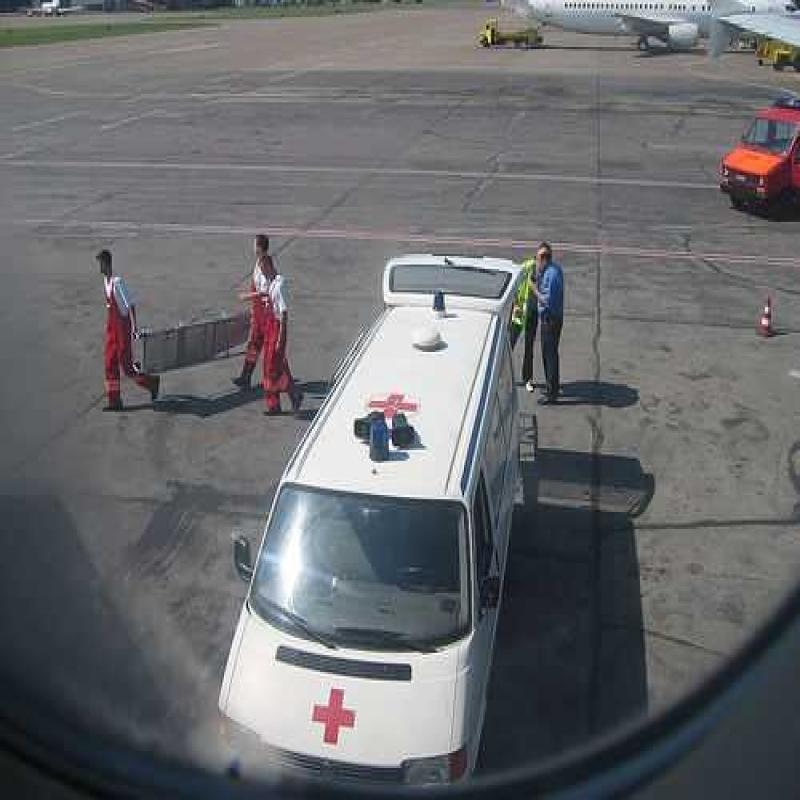AmbulanceSiren: (357, 427, 408, 468)
